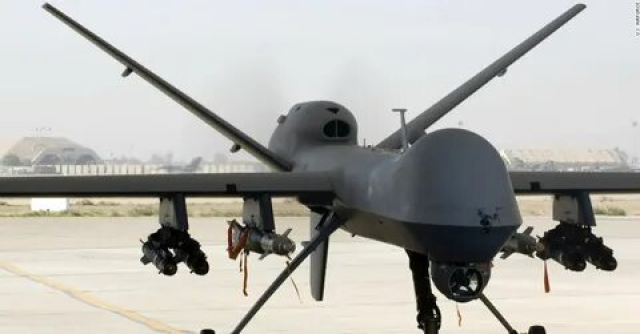military drone: (0, 2, 640, 334)
